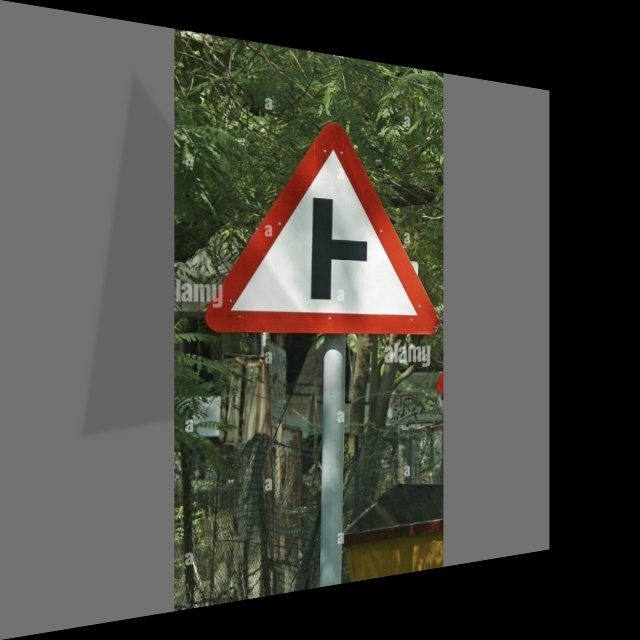Side_Road_Right: (210, 105, 437, 341)
